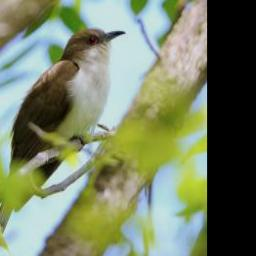Cuckoo: (0, 24, 126, 256)
